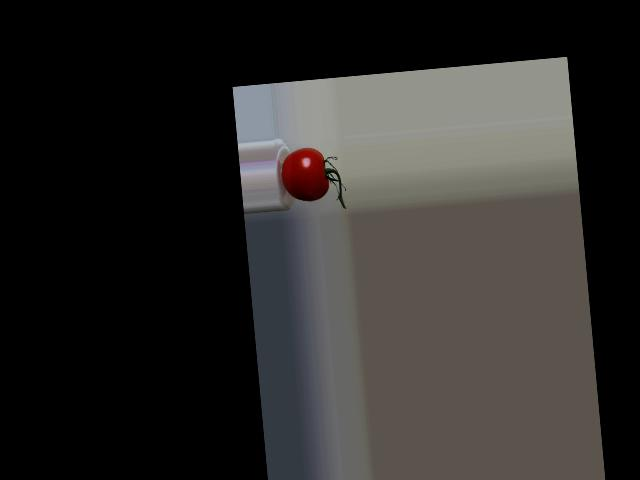tomato: (279, 146, 330, 203)
